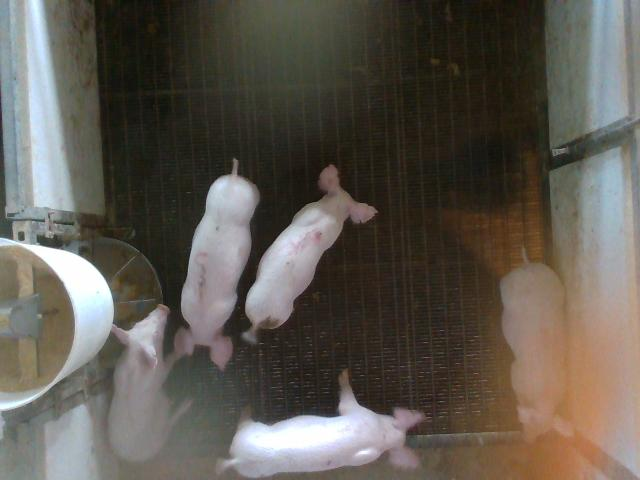pig-3: (174, 159, 260, 369)
pig-5: (242, 165, 378, 343)
